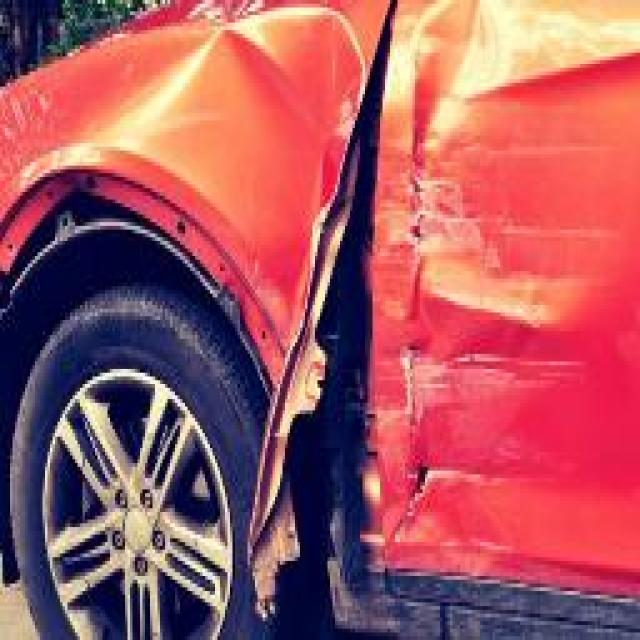Door: (258, 0, 592, 637)
Fender: (76, 0, 387, 351)
